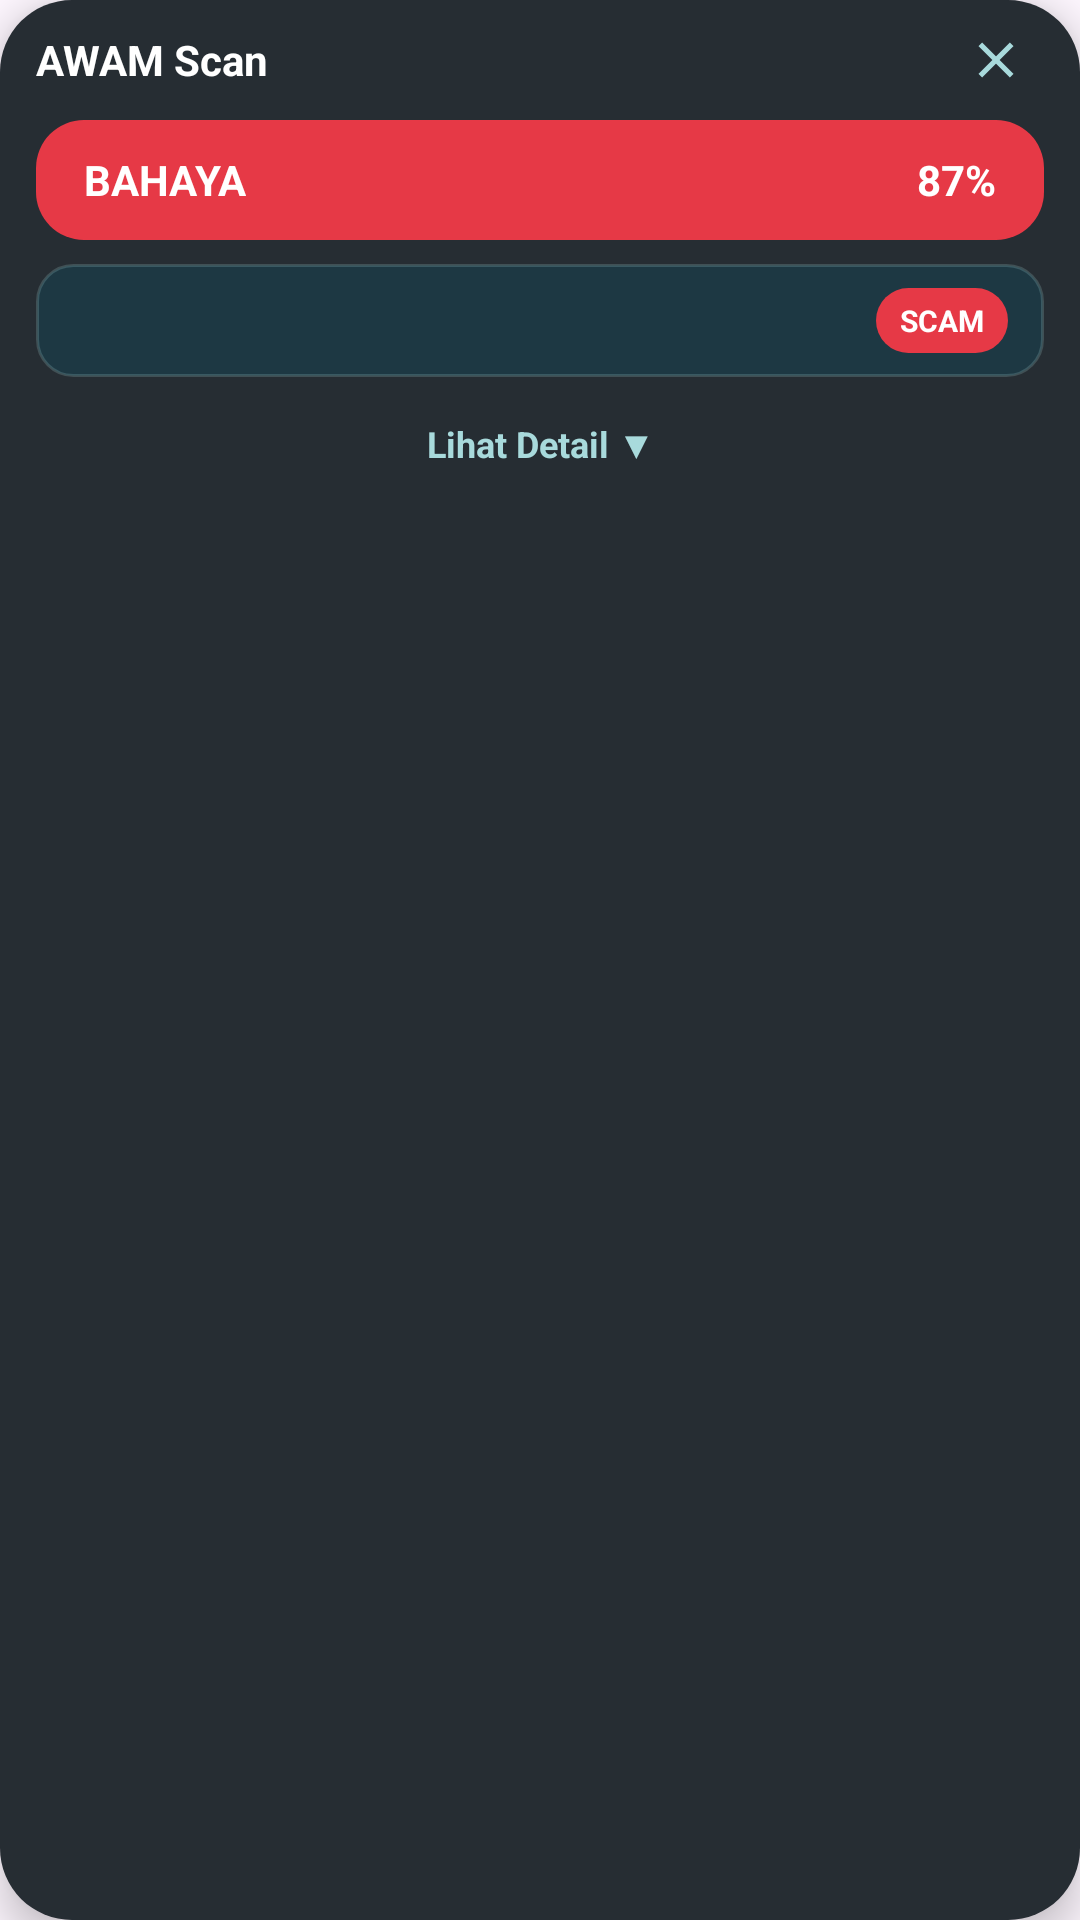

Named icons in this screenshot (1080px x 1920px) and their bounding boxes, {"left": x1, "top": y1, "right": x2, "bottom": y2}:
Tutup: {"left": 978, "top": 42, "right": 1014, "bottom": 78}
